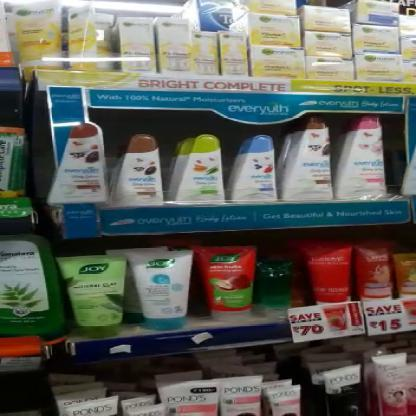Everyuth Naturals Body Lotion Nourishing Cocoa 200ml: (278, 115, 334, 203), (112, 132, 163, 206)
Everyuth Naturals Body Lotion Rejuvenating Flora 200ml: (338, 114, 390, 199)
Everyuth Naturals Body Lotion Soothing Citrus 200ml: (170, 131, 222, 204)
Everyuth Naturals Body Lotion Sun Care Berries SPF 15 200ml: (225, 134, 283, 204)
